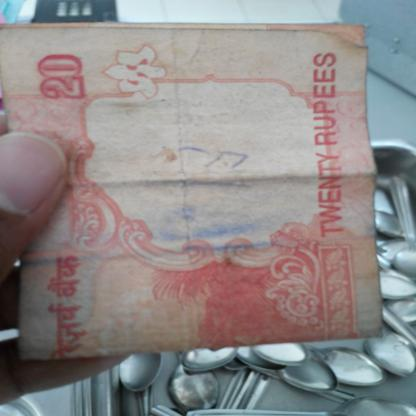Old20Back: (4, 29, 369, 353)
